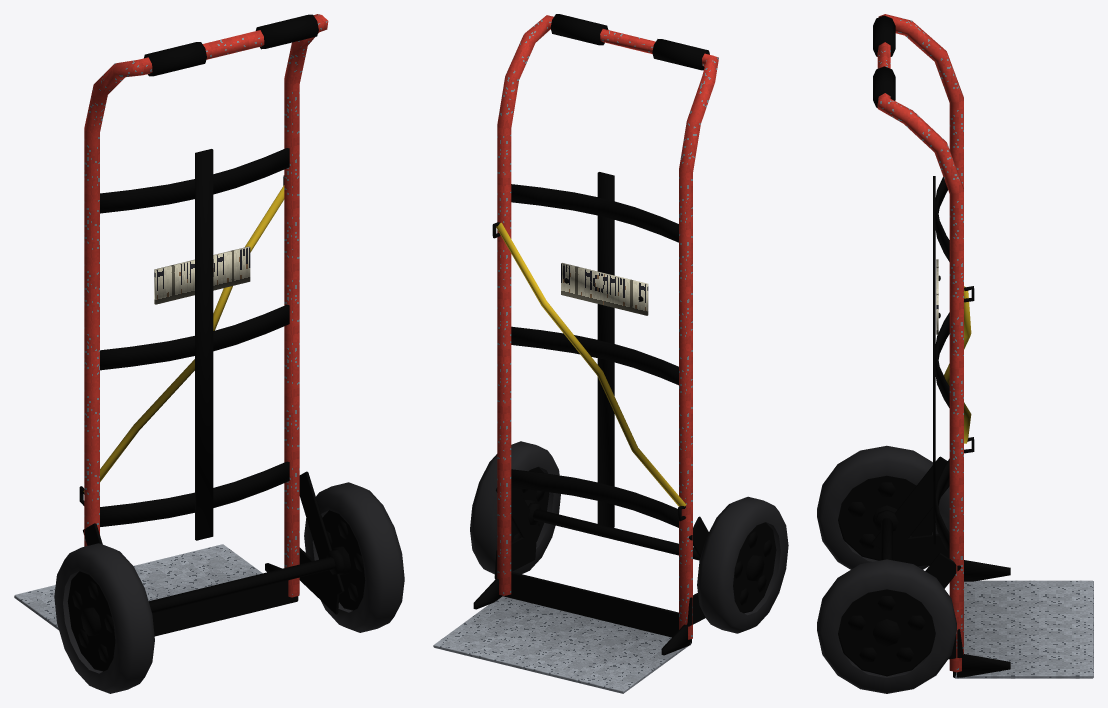
File: s_handtruck.glb
3 renders of one model, left to right at view 1: azimuth 30°, elevation 25°; view 2: azimuth 150°, elevation 25°; view 3: azimuth 270°, elevation 25°, orthographic. The views are drawn at different scales.
Parts seen in each view (by area): view 1: frame, wheelL, wheelR; view 2: frame, wheelL, wheelR; view 3: frame, wheelR, wheelL.
Boxes of the visible parts, x1,y1,x2,y2 form: frame: (14, 14, 344, 636); wheelL: (54, 543, 154, 693); wheelR: (304, 482, 404, 632); frame: (433, 14, 718, 693); wheelL: (697, 496, 788, 633); wheelR: (470, 441, 560, 574); frame: (872, 14, 1093, 678); wheelR: (817, 559, 956, 693); wheelL: (817, 445, 949, 569).
Size of the model in its own units: 0.5651 by 1.19 by 0.515.
7 materials, 3 textured.
